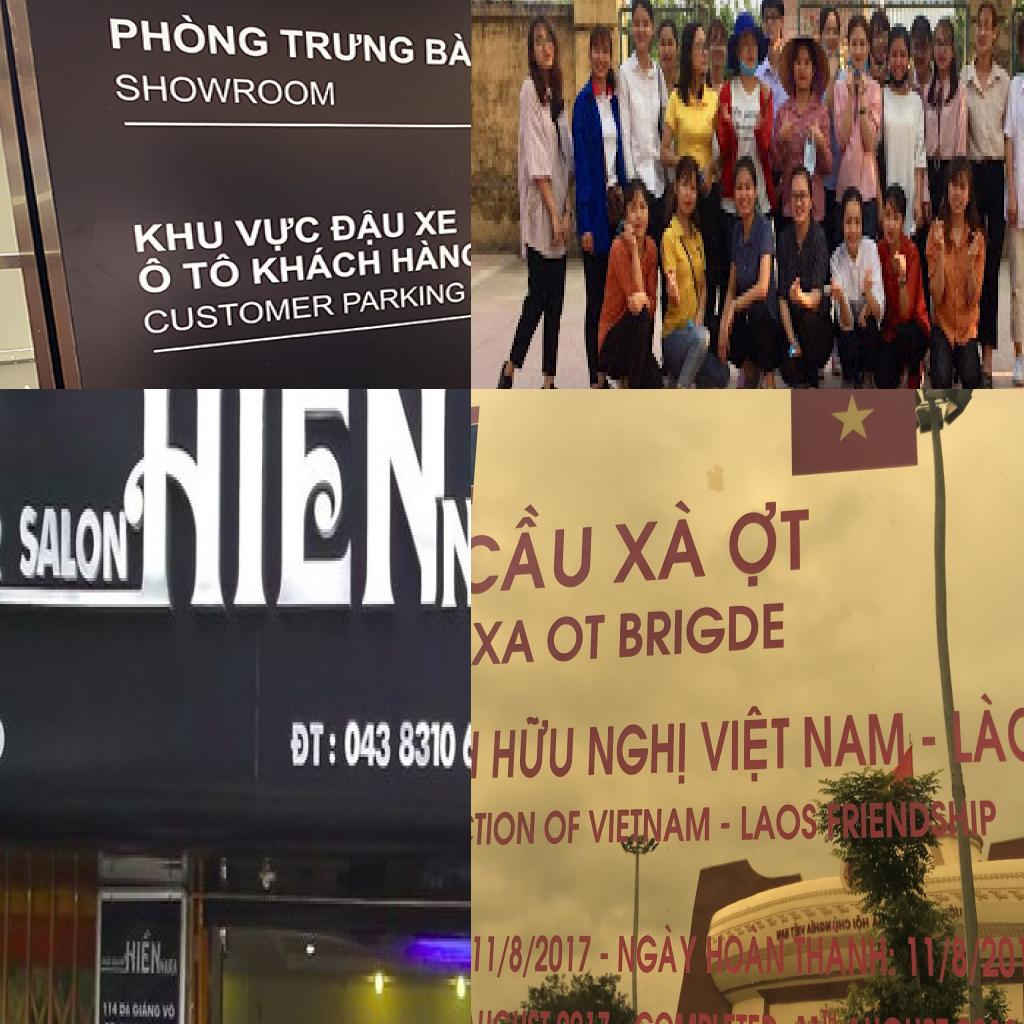text: (115, 389, 454, 618), (471, 498, 596, 597), (113, 69, 341, 111), (821, 792, 998, 846), (617, 602, 786, 658), (103, 10, 275, 64), (142, 292, 338, 338), (342, 713, 471, 780), (611, 500, 709, 587), (696, 700, 792, 788), (17, 509, 126, 581), (798, 706, 910, 773), (728, 499, 812, 588), (790, 920, 898, 985), (586, 718, 688, 786), (948, 688, 1024, 769), (277, 25, 420, 68), (249, 244, 384, 288), (490, 714, 576, 780), (610, 920, 698, 981), (586, 805, 713, 847), (702, 924, 786, 981), (341, 280, 469, 317), (129, 216, 230, 257), (736, 798, 818, 845), (330, 206, 412, 252), (388, 233, 471, 278), (542, 610, 608, 666), (232, 214, 324, 254), (471, 614, 537, 669), (284, 711, 340, 774), (633, 1003, 790, 1024), (471, 807, 537, 853), (532, 932, 596, 979), (177, 252, 245, 292), (980, 927, 1024, 981), (126, 924, 166, 982), (901, 926, 938, 987), (420, 30, 471, 70), (540, 802, 583, 849), (471, 1001, 554, 1024), (840, 1009, 952, 1024), (136, 257, 176, 298), (413, 208, 461, 242), (471, 928, 499, 979), (491, 930, 514, 983), (553, 1005, 614, 1024), (506, 932, 526, 983), (950, 932, 969, 983), (520, 932, 537, 983), (937, 932, 952, 989), (968, 936, 982, 987), (133, 1000, 162, 1022), (816, 1005, 840, 1024), (102, 996, 118, 1022), (161, 999, 177, 1024), (118, 996, 132, 1022), (796, 1009, 820, 1024), (104, 1019, 117, 1024)
